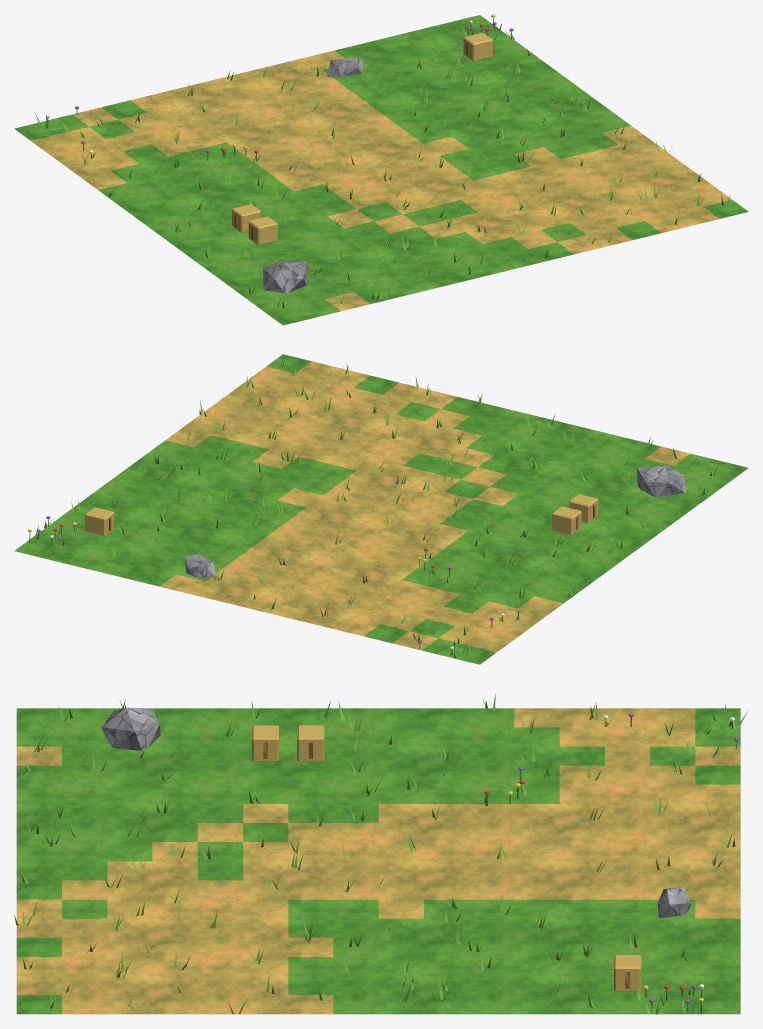
Rendered from chunk_8_8.glb.
The picture shows the model from 3 angles, top to bottom: view 1: azimuth 30°, elevation 25°; view 2: azimuth 150°, elevation 25°; view 3: azimuth 270°, elevation 25°; orthographic projection. The views are drawn at different scales.
Visible parts, largest first — view 1: chunk_8_8; view 2: chunk_8_8; view 3: chunk_8_8.
Part boxes in pixels (x1=…): chunk_8_8: x1=14, y1=14, x2=748, y2=325; chunk_8_8: x1=14, y1=354, x2=748, y2=664; chunk_8_8: x1=14, y1=694, x2=747, y2=1014.
Bounding box in the file's own units: 16.23 × 1.21 × 16.24.
11 materials, 5 textured.
